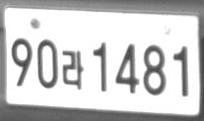0: (36, 38, 58, 88)
1: (90, 41, 113, 91), (171, 45, 194, 95)
4: (115, 43, 139, 93)
8: (142, 43, 166, 95)
9: (11, 37, 32, 86)
라: (62, 50, 84, 90)
